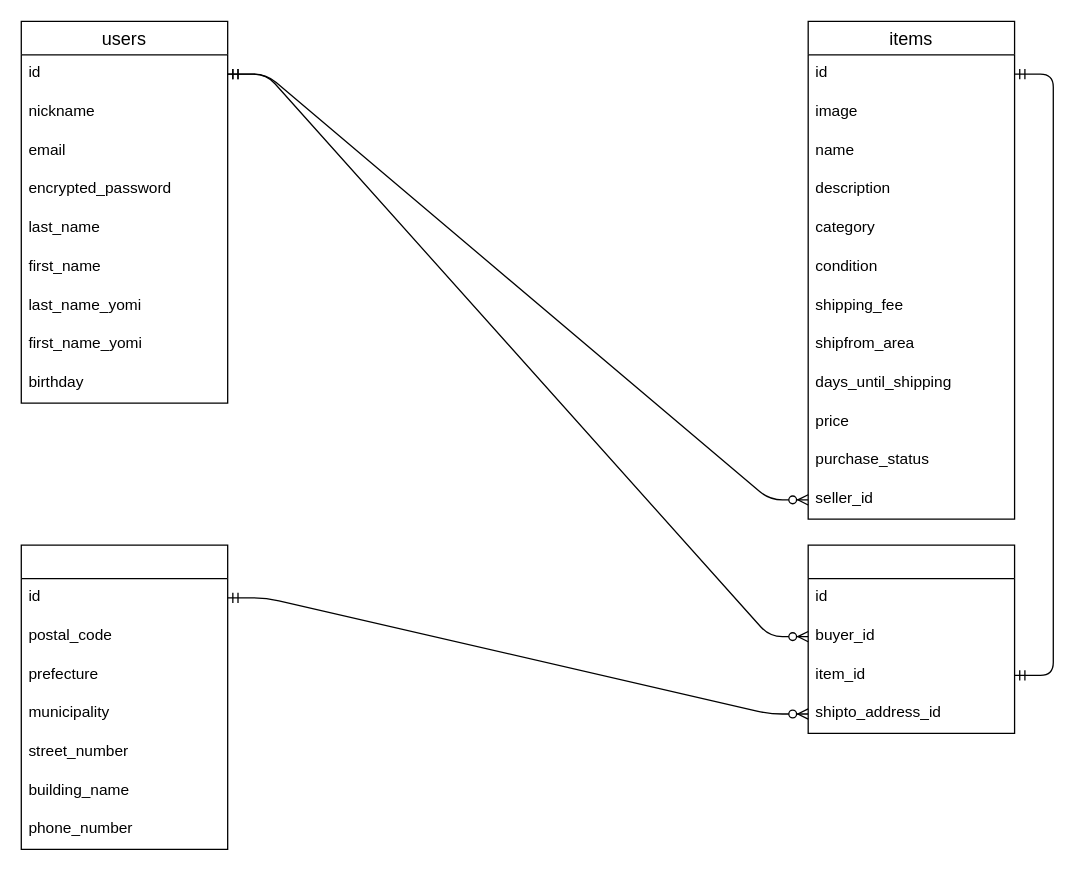
The diagram is 1075 pixels wide and 871 high, and some of its shapes have lost their labels. The box of each missing label's shape, as (x1, y1, x2, y2) in pixels:
purchase_records: (807, 544, 1015, 733)
shipto_address: (20, 544, 228, 849)
